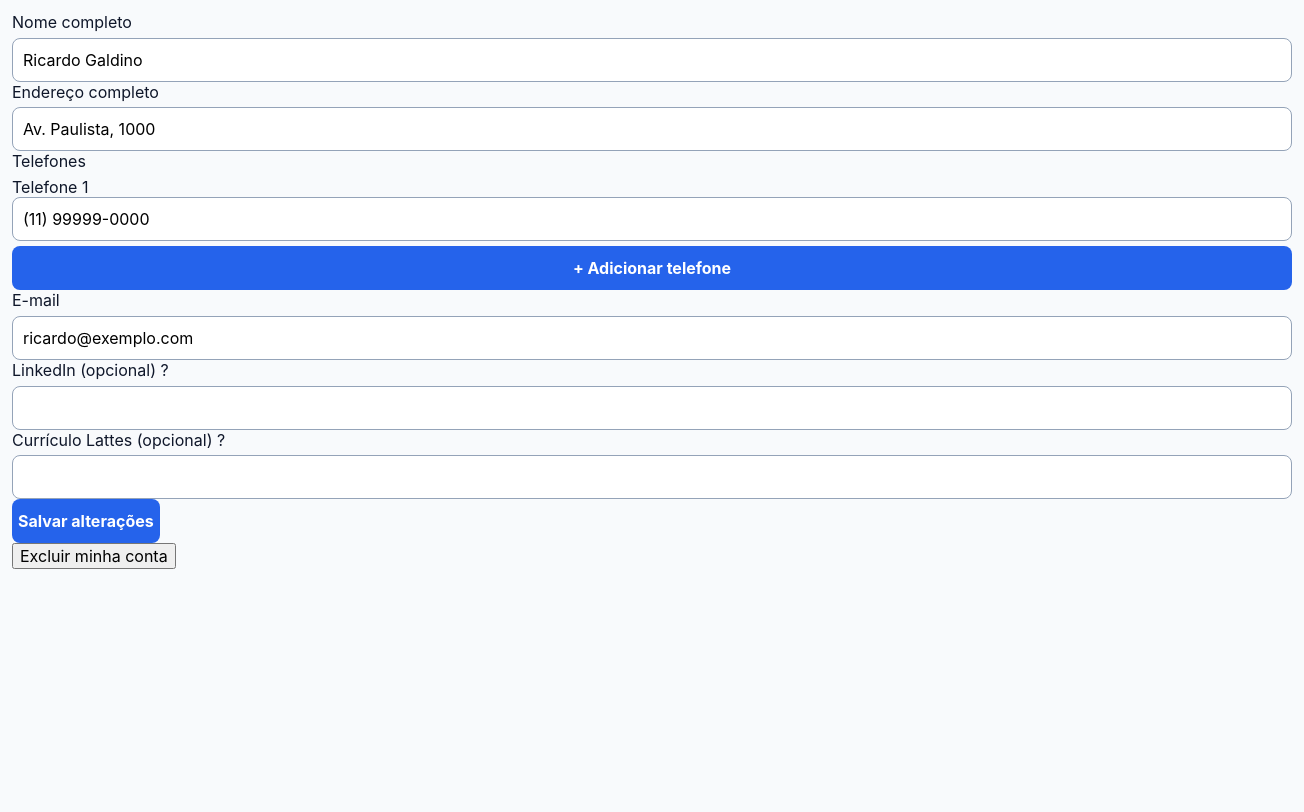
FormularioEdicaoPerfil › salva alterações e exibe mensagem de sucesso com o double
This screenshot has width=1304, height=812.
Step 1. Replace the text in the field labelled "Nome completo" with "Ricardo Silva" → (652, 60), box left=12, top=38, right=1292, bottom=82
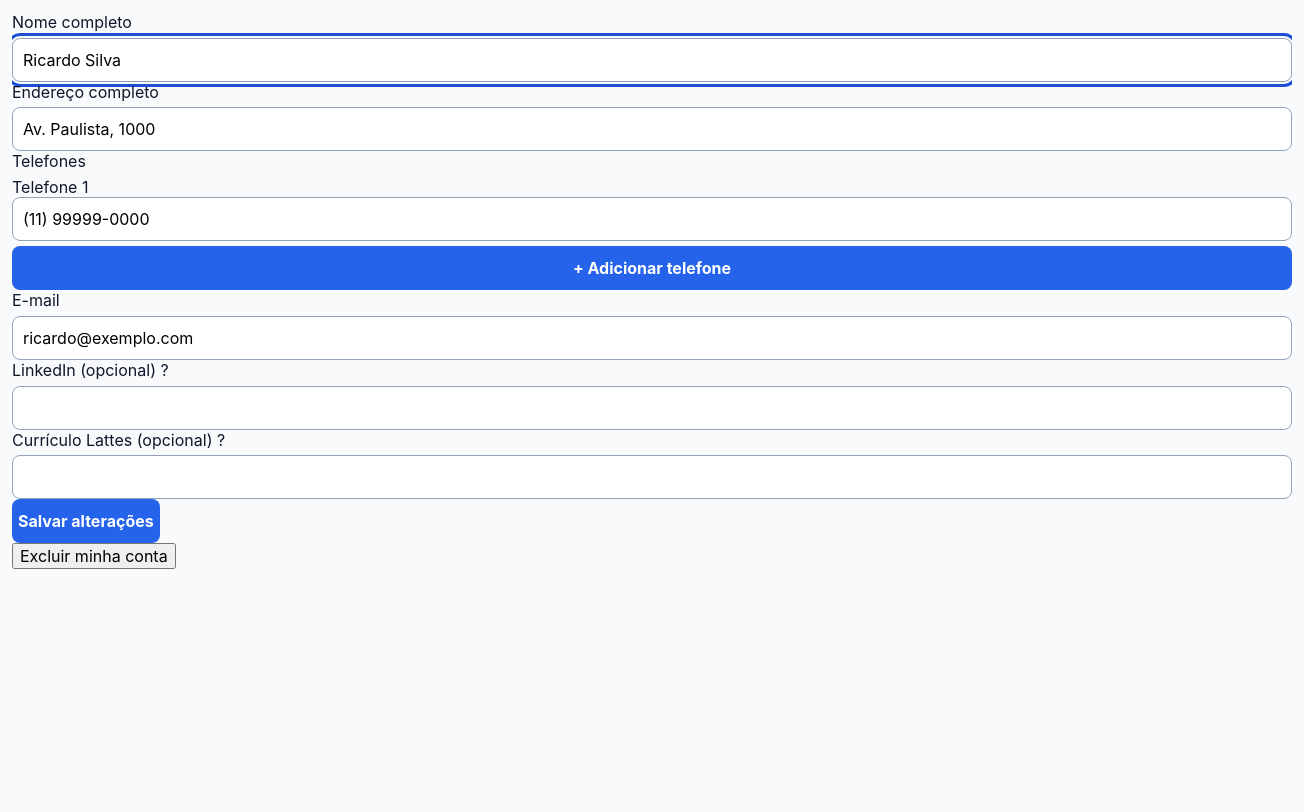
Step 2. Type "https://portfolio.exemplo.dev/ricardo" into the field labelled "LinkedIn (opcional) ?" → (652, 408), box left=12, top=386, right=1292, bottom=430
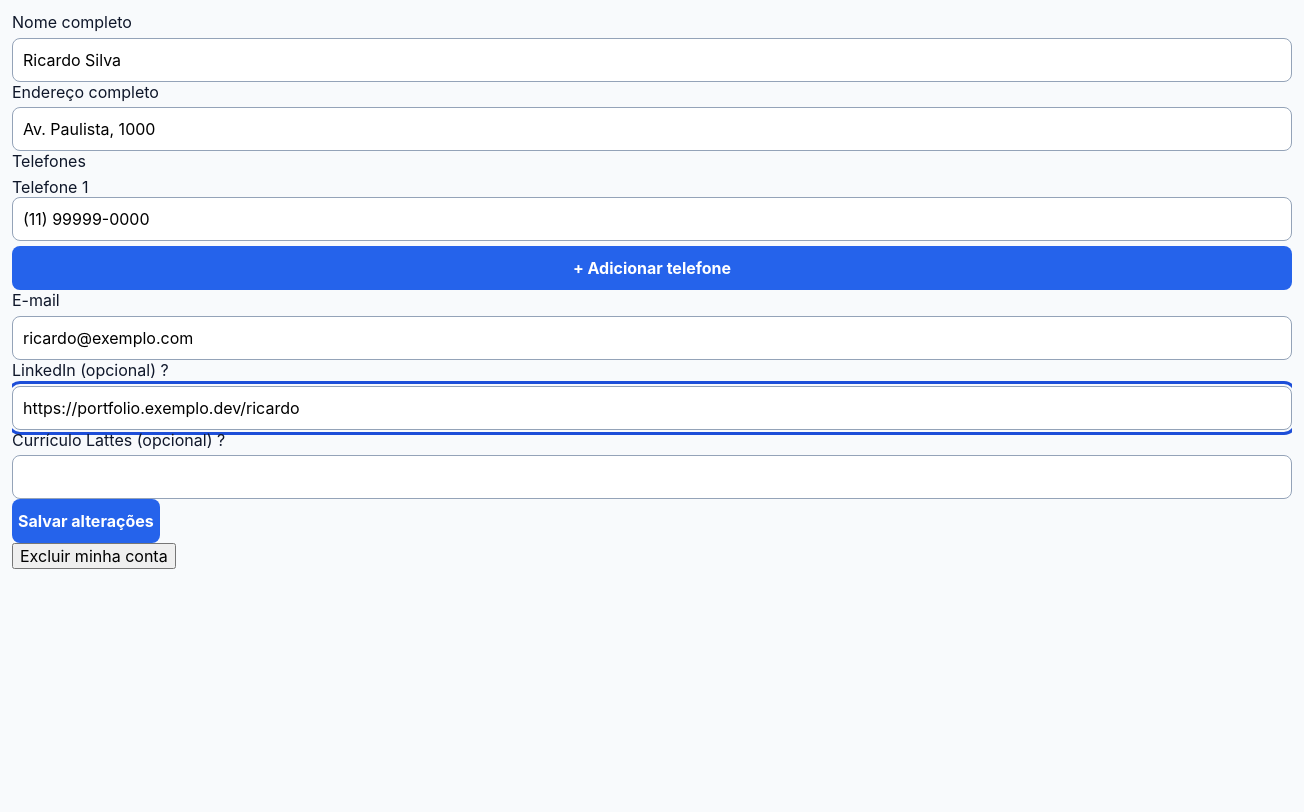
Step 3. Click the button "Salvar alterações" → (86, 521), box left=12, top=499, right=160, bottom=543
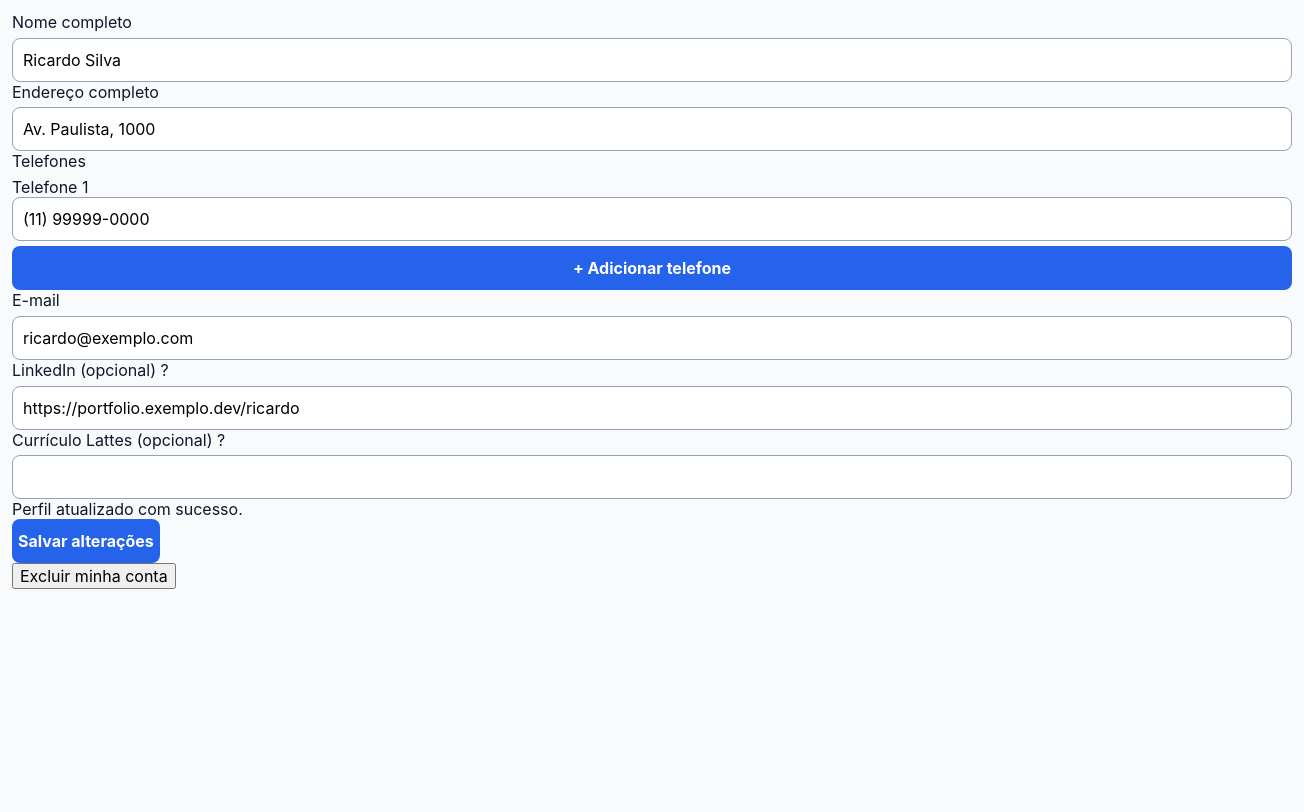
Now the message reads "Perfil atualizado com sucesso.", box left=12, top=499, right=243, bottom=519
